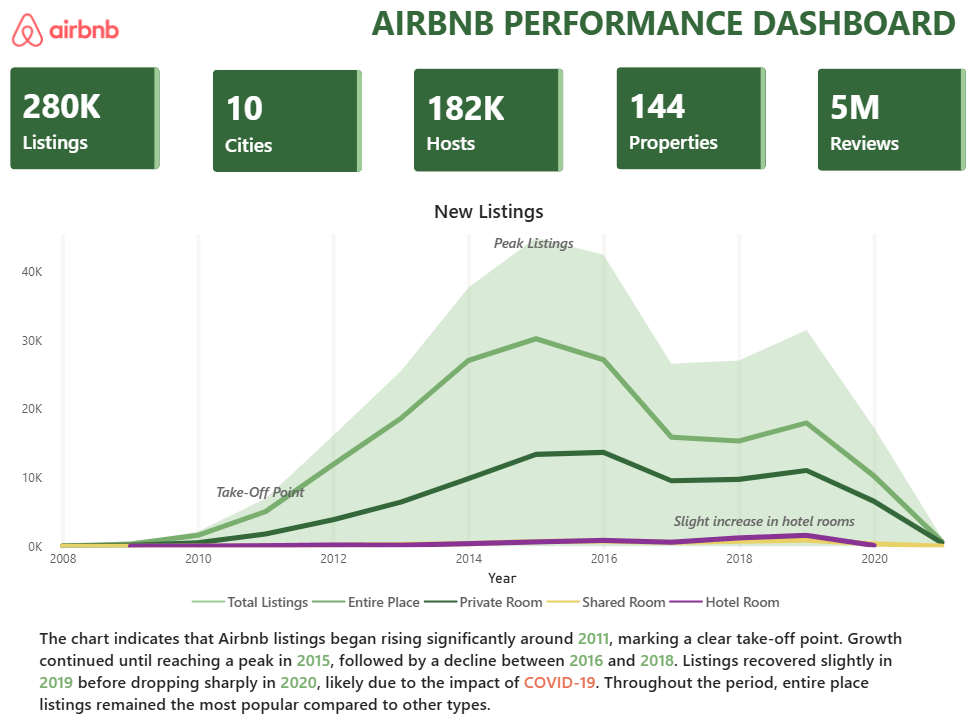

This screenshot's page, from the dashboard's own definition file:
{"tool":"powerbi","page":{"name":"Overview","canvas":[960,720],"ordinal":0},"visuals":[{"type":"textbox","box":[342.4,0,617.5,58.7],"z":0},{"type":"cardVisual","fields":{"Data":["Count(Listings.city)"]},"box":[197.5,61.1,170,124.7],"z":1000},{"type":"cardVisual","fields":{"Data":["CountNonNull(Listings.listing_id)"]},"box":[0,58.7,170,124.7],"z":2000},{"type":"cardVisual","fields":{"Data":["Count(Listings.host_id)"]},"box":[395,59.9,170,126],"z":3000},{"type":"cardVisual","fields":{"Data":["Count(Listings.property_type)"]},"box":[592.5,58.7,170,124.7],"z":4000},{"type":"cardVisual","fields":{"Data":["Count(Reviews.review_id)"]},"box":[789.9,59.9,170,124.7],"z":5000},{"type":"lineChart","title":"New Listings","fields":{"Category":["Listings.host_since.Variation.Date Hierarchy.Year"],"Y":["CountNonNull(Listings.listing_id)","Listings.Entire Place","Listings.Private Room","Listings.Shared Room","Listings.Hotel Room"]},"box":[18.3,198.1,923.2,414.5],"z":6000},{"type":"textbox","box":[198.1,472,116.2,36.7],"z":7000},{"type":"textbox","box":[465.9,228.7,116.2,36.7],"z":8000},{"type":"image","box":[0,0,132.1,68.5],"z":9000},{"type":"textbox","box":[35.5,612.6,859.7,100.3],"z":9001},{"type":"textbox","box":[651.8,500.1,195.7,36.7],"z":9002}]}

Visuals, with their boxes in screenshot pixels (x1, y1, x2, y2), scaled from the page's 960x720 canvas onto the 976x727 screenshot:
textbox: (left=348, top=0, right=975, bottom=59)
cardVisual - Count(Listings.city): (left=201, top=62, right=374, bottom=188)
cardVisual - CountNonNull(Listings.listing_id): (left=0, top=59, right=173, bottom=185)
cardVisual - Count(Listings.host_id): (left=402, top=60, right=574, bottom=188)
cardVisual - Count(Listings.property_type): (left=602, top=59, right=775, bottom=185)
cardVisual - Count(Reviews.review_id): (left=803, top=60, right=975, bottom=186)
"New Listings" lineChart: (left=19, top=200, right=957, bottom=619)
textbox: (left=201, top=477, right=320, bottom=514)
textbox: (left=474, top=231, right=592, bottom=268)
image: (left=0, top=0, right=134, bottom=69)
textbox: (left=36, top=619, right=910, bottom=720)
textbox: (left=663, top=505, right=862, bottom=542)
